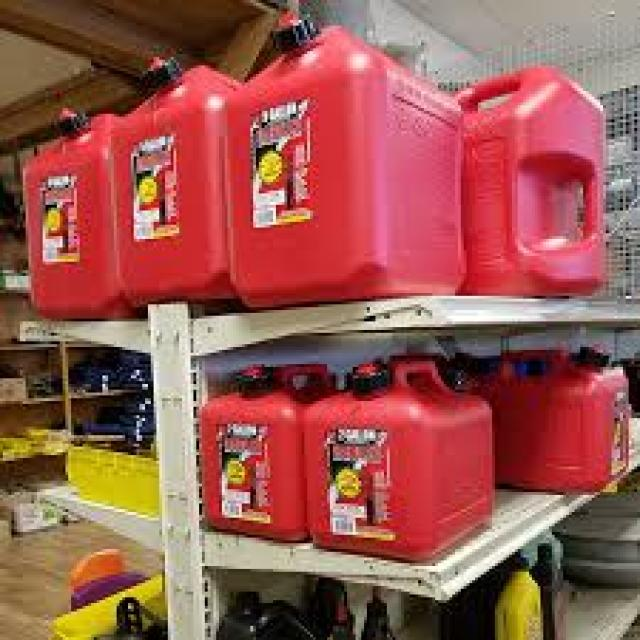gasolin: (233, 0, 466, 310), (299, 358, 492, 563)
